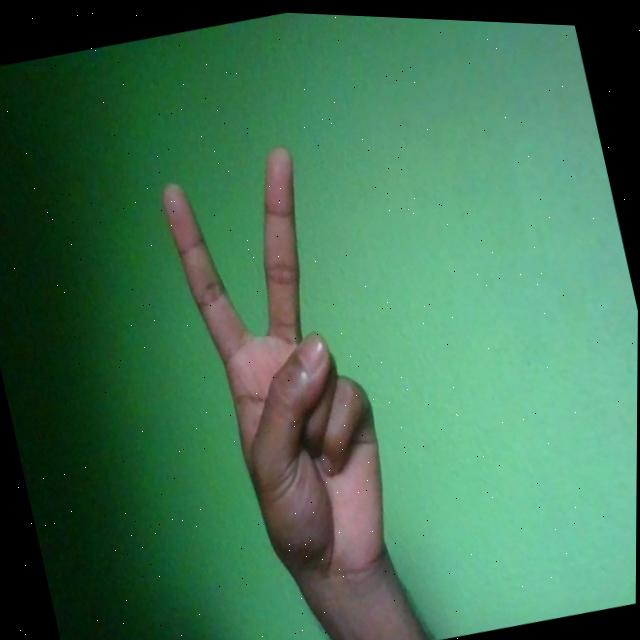Peace: (151, 129, 412, 607)
